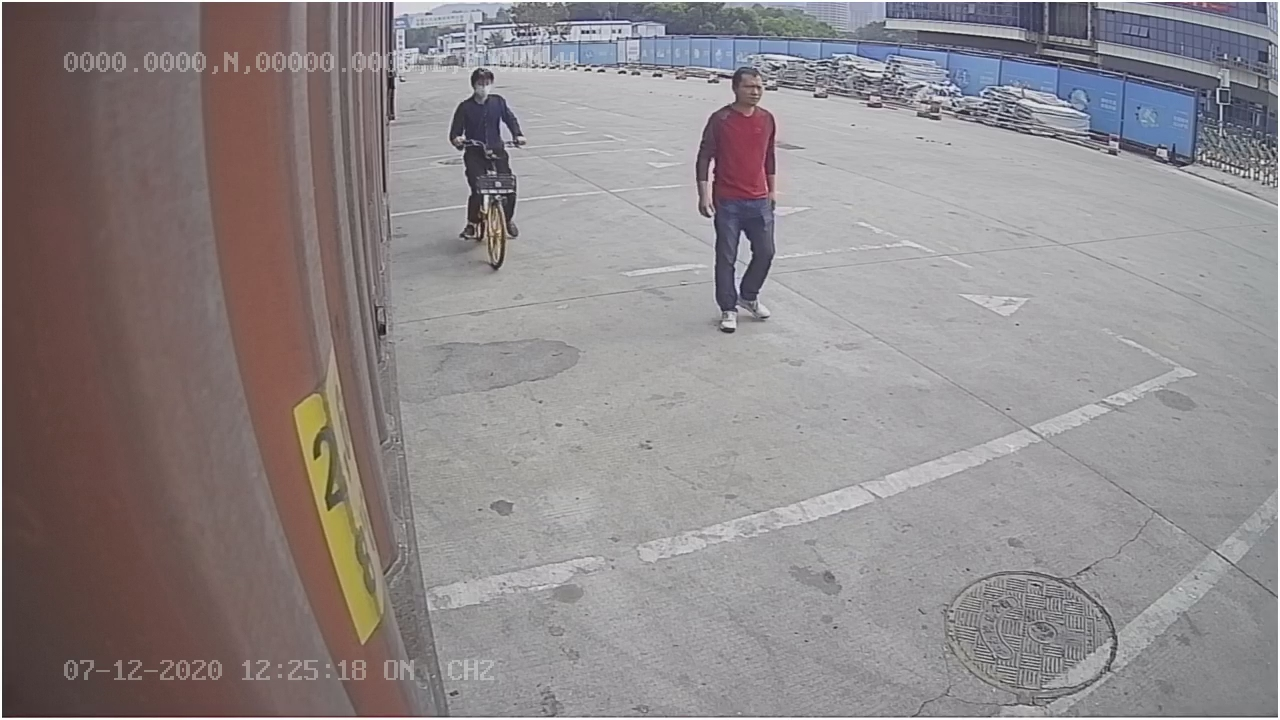person: (690, 65, 785, 338)
